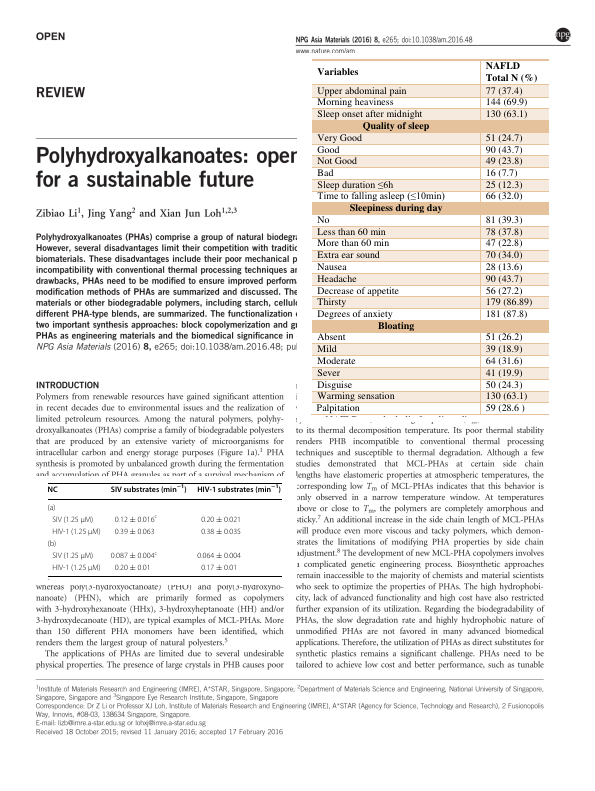borderless: (309, 58, 548, 416), (46, 481, 282, 576)
cell: (316, 189, 445, 204), (316, 108, 423, 121), (484, 60, 538, 85), (348, 202, 443, 215), (316, 85, 407, 98), (316, 178, 394, 193), (316, 284, 399, 298), (316, 390, 395, 403), (316, 96, 394, 109), (316, 308, 393, 321), (316, 237, 389, 250), (316, 226, 386, 239), (361, 120, 430, 133), (196, 484, 282, 494), (316, 249, 380, 262), (110, 484, 188, 494), (484, 296, 533, 309), (316, 132, 362, 145), (315, 402, 360, 415), (484, 96, 528, 109), (484, 108, 528, 121), (484, 308, 528, 321), (484, 390, 528, 403), (316, 66, 359, 79), (484, 143, 523, 157), (484, 284, 523, 298), (376, 319, 415, 333), (484, 378, 523, 392), (316, 155, 357, 168), (316, 273, 357, 286), (484, 402, 525, 415), (110, 550, 158, 561), (316, 355, 356, 368), (316, 378, 353, 392), (51, 527, 102, 537), (484, 85, 523, 98), (484, 132, 523, 145), (484, 155, 523, 168), (484, 179, 523, 192), (484, 190, 523, 203), (484, 214, 523, 227), (484, 226, 523, 239), (484, 237, 523, 250), (484, 249, 523, 262), (484, 261, 523, 274), (484, 273, 523, 286), (484, 331, 523, 344), (484, 343, 523, 356), (484, 355, 523, 368), (484, 367, 523, 380), (114, 514, 158, 525), (51, 564, 102, 573), (484, 167, 518, 180), (51, 515, 94, 525), (200, 515, 242, 525), (114, 527, 156, 537), (200, 527, 242, 537), (196, 552, 242, 561), (316, 261, 347, 274), (316, 296, 347, 309), (316, 331, 346, 344), (51, 552, 94, 561), (114, 564, 152, 573), (200, 564, 238, 573), (316, 143, 340, 157), (316, 367, 340, 380), (316, 343, 337, 356), (316, 167, 334, 180), (316, 214, 330, 227), (47, 485, 59, 494), (47, 503, 56, 513), (47, 540, 57, 549)
